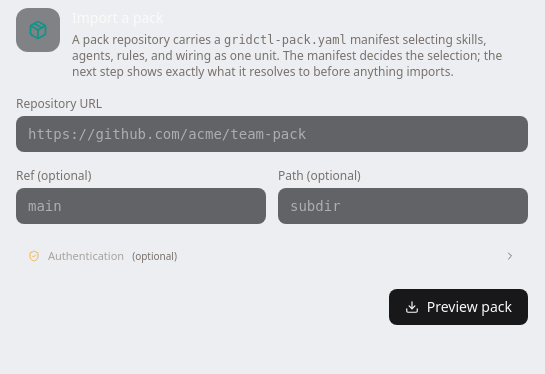
PackImportWizard › renders the manifest-missing 422 message inline
Type "https://github.com/acme/not-a-pack" into the field named "Pack repository URL" at point(272, 134), box [16,116,528,152]
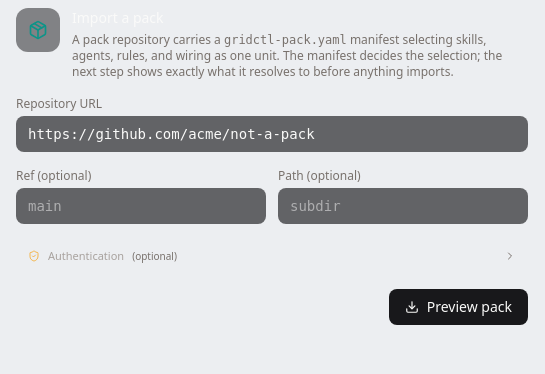
Click the button "Preview pack" at point(458, 306), box [389,288,528,324]
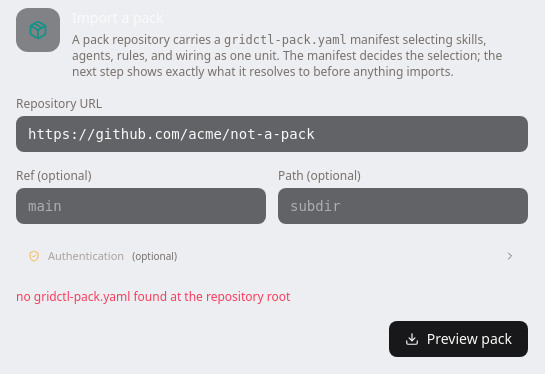
Now the message shows "no gridctl-pack.yaml", box [16,288,290,304]
